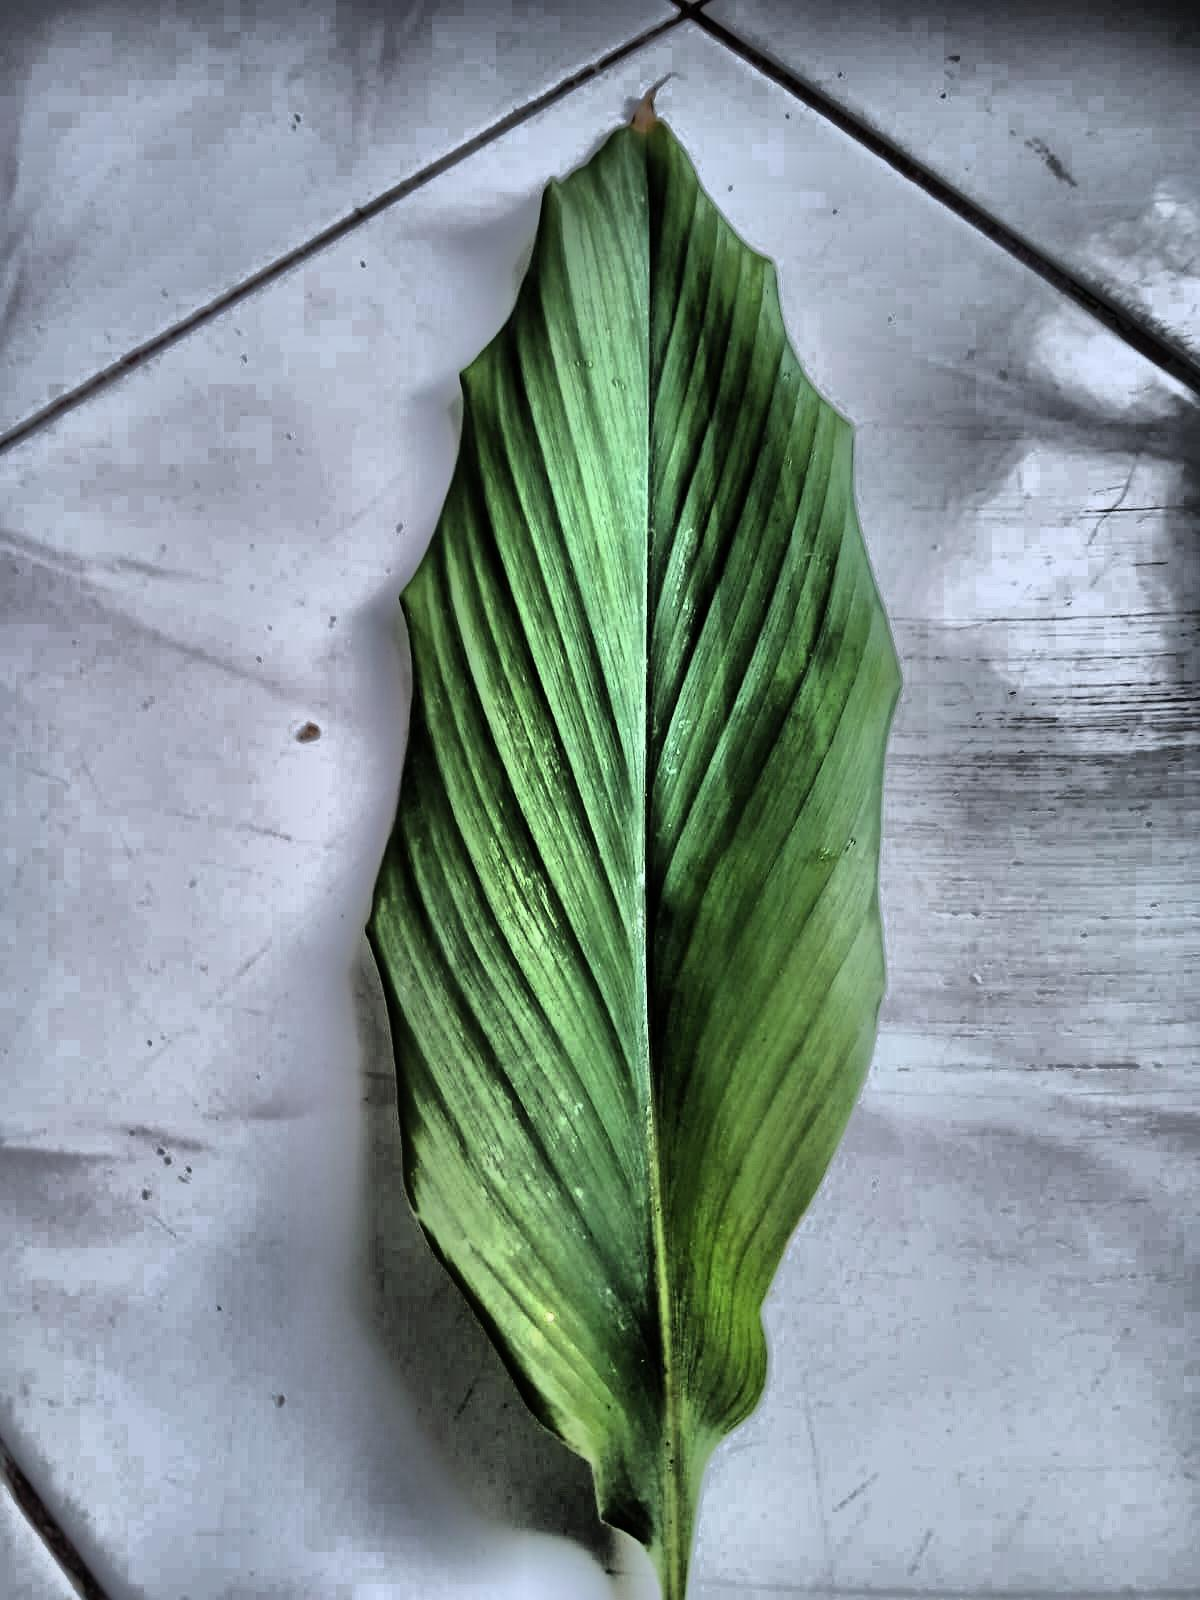daun kunyit: (368, 101, 899, 1599)
